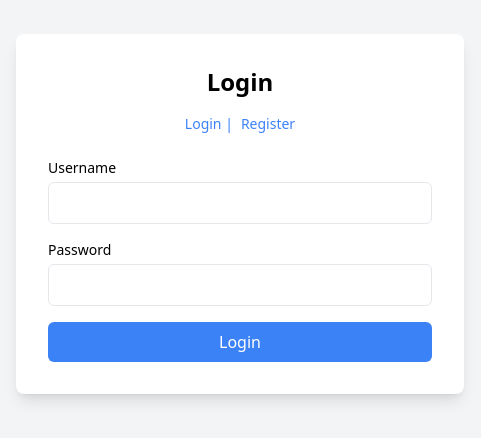
Test: failed login displays error message
Step 1. Type "wronguser" into the field labelled "Username" → {"x": 240, "y": 203}, box [48,182,432,224]
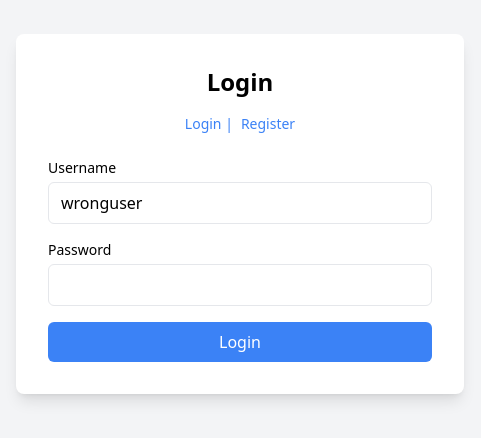
Step 2. Type "wrongpassword" into the password field labelled "Password" → {"x": 240, "y": 285}, box [48,264,432,306]
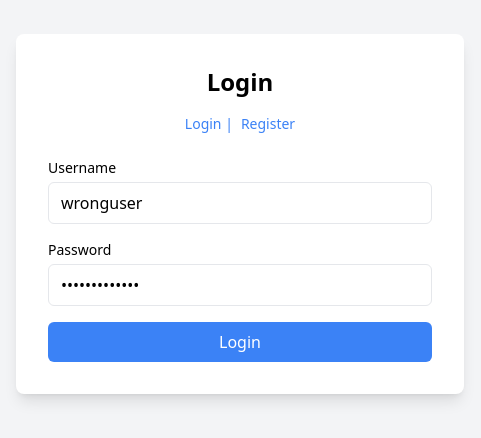
Step 3. Click the button "Login" → {"x": 240, "y": 342}, box [48,322,432,362]
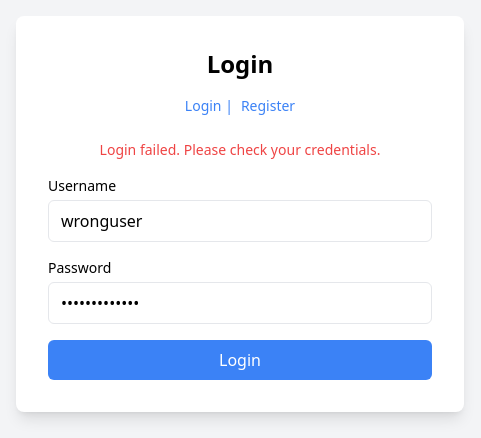
Result: the text "Login failed. Please check your credentials." is shown at [100,140,380,159]
